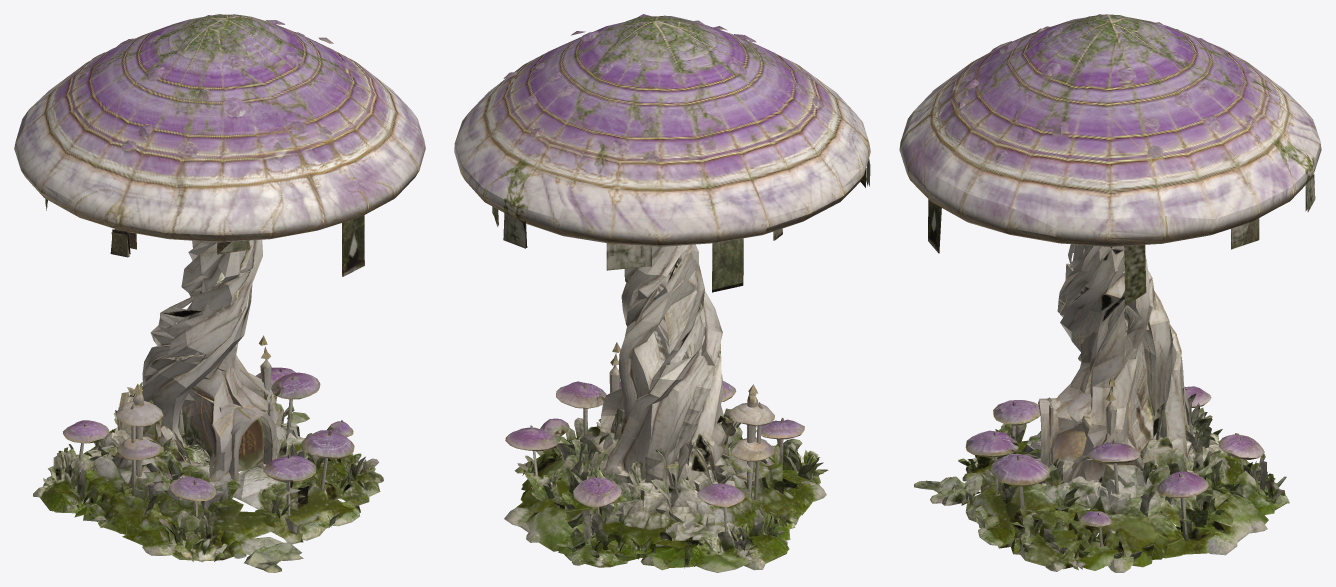
File: Meshy_AI_The_Enchanted_Mushroo_1017072959_texture.fbx
3 renders of one model, left to right at view 1: azimuth 30°, elevation 25°; view 2: azimuth 150°, elevation 25°; view 3: azimuth 270°, elevation 25°, orthographic. The views are drawn at different scales.
Parts seen in each view (by area): view 1: mesh_node; view 2: mesh_node; view 3: mesh_node.
Part boxes in pixels (x1,y1,x2,y2): mesh_node: [14, 14, 425, 572]; mesh_node: [454, 14, 870, 572]; mesh_node: [899, 14, 1321, 572].
Size of the model in its own units: 78.52 by 99.8 by 78.32.
1 material, 1 textured.
